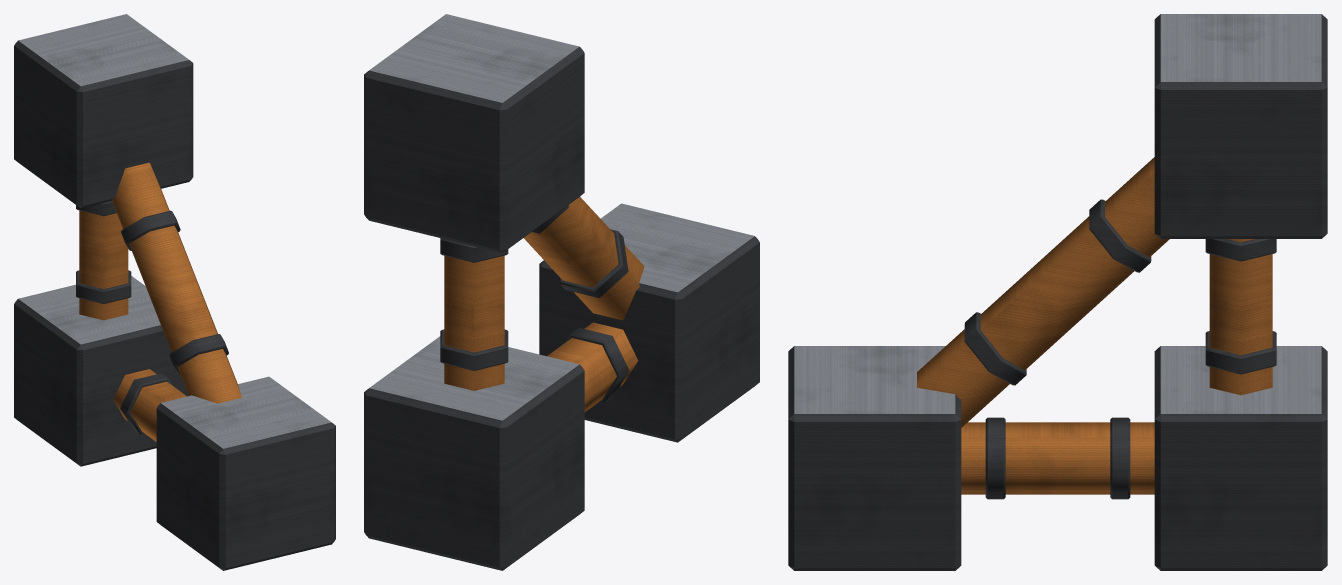
The model's file is R4C_STRUT_RAMP_LOD1.glb.
The picture shows the model from 3 angles, left to right: view 1: azimuth 30°, elevation 25°; view 2: azimuth 150°, elevation 25°; view 3: azimuth 270°, elevation 25°; orthographic projection. The views are drawn at different scales.
Visible parts, largest first — view 1: R4C_STRUT_RAMP_LOD1; view 2: R4C_STRUT_RAMP_LOD1; view 3: R4C_STRUT_RAMP_LOD1.
Boxes of the visible parts, x1,y1,x2,y2 form: R4C_STRUT_RAMP_LOD1: (14,14,335,570); R4C_STRUT_RAMP_LOD1: (364,14,759,570); R4C_STRUT_RAMP_LOD1: (788,14,1327,570).
Size of the model in its own units: 0.52 by 1.62 by 1.62.
3 materials, 3 textured.
